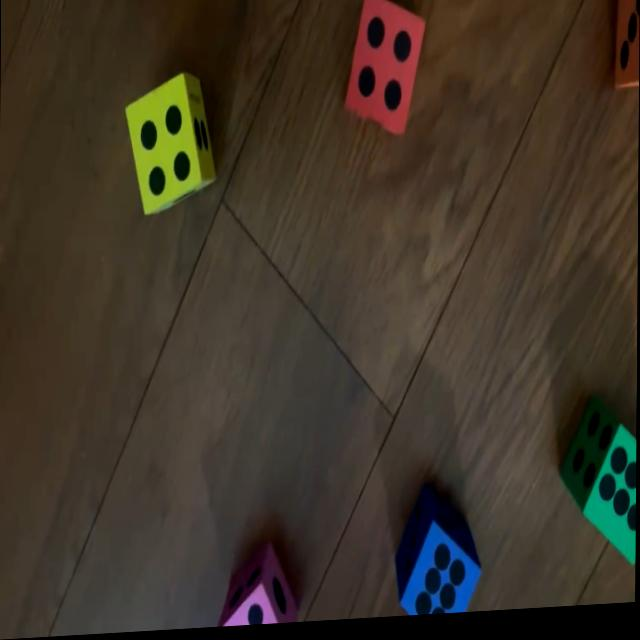cube: (557, 403, 637, 576), (344, 0, 424, 144), (398, 490, 482, 621)
